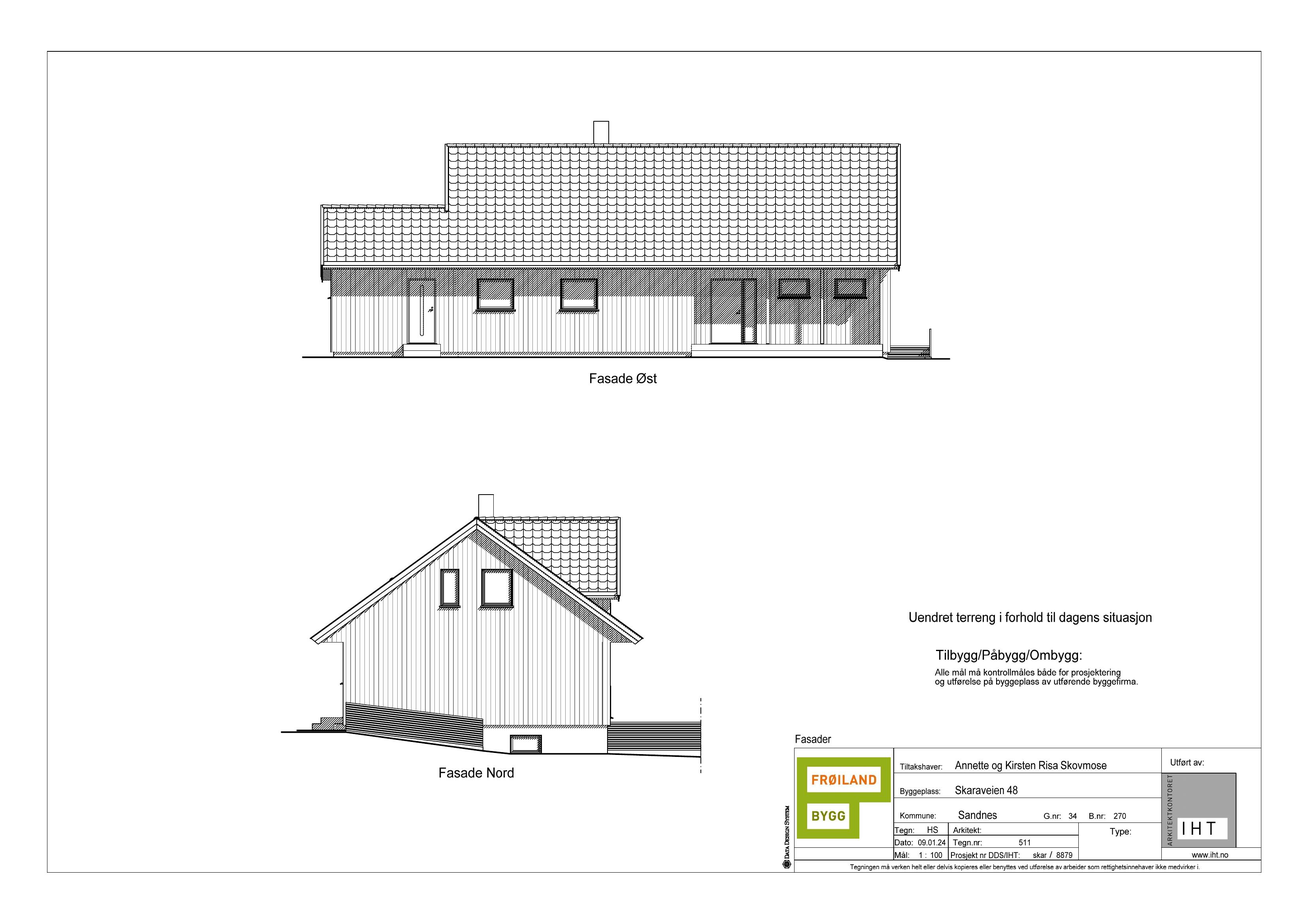fasade: (319, 120, 934, 364), (294, 492, 702, 758)
